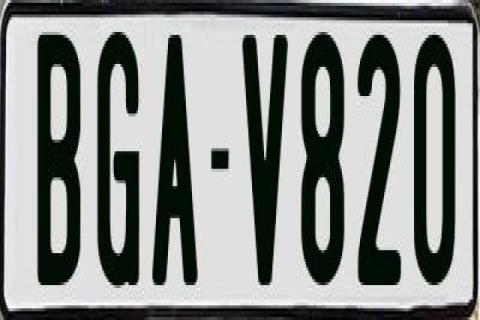0: (300, 23, 344, 291), (358, 35, 404, 291), (411, 26, 455, 282)
A: (153, 32, 203, 282)
B: (38, 32, 84, 282)
G: (96, 24, 144, 282)
V: (240, 26, 290, 282)
